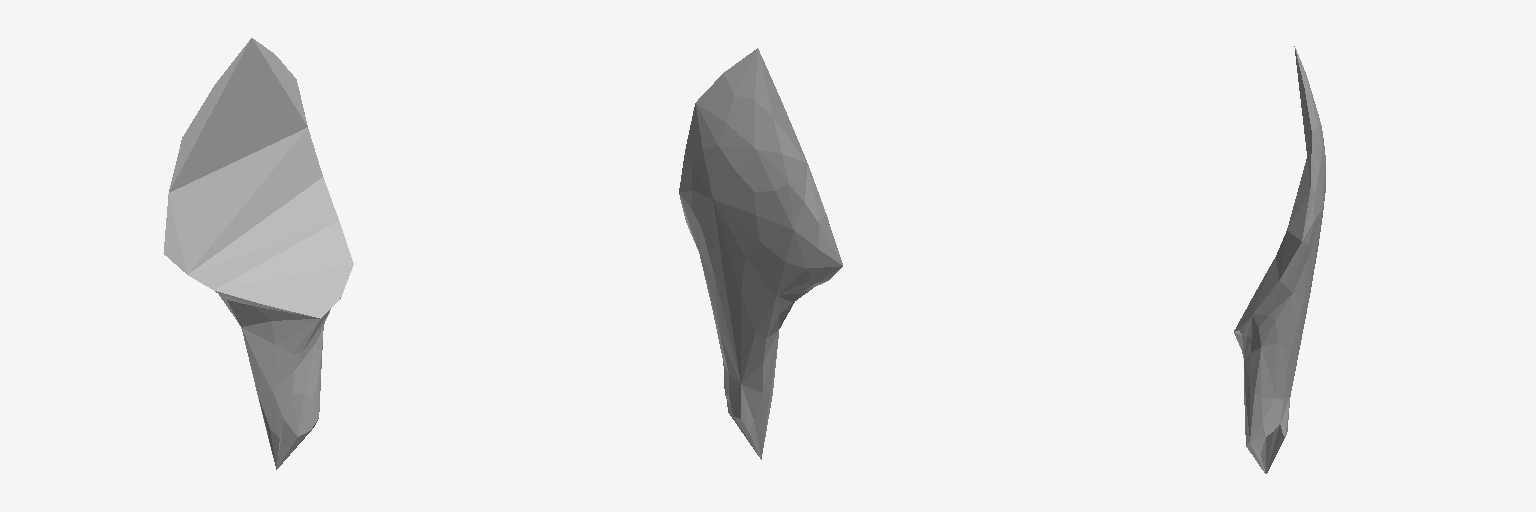
File: Patte_av_L.obj
The picture shows the model from 3 angles: view 1: azimuth 30°, elevation 25°; view 2: azimuth 150°, elevation 25°; view 3: azimuth 270°, elevation 25°; orthographic projection.
Visible parts, largest first — view 1: Patte_avant_L; view 2: Patte_avant_L; view 3: Patte_avant_L.
Boxes of the visible parts, <box> form: Patte_avant_L: <box>164,38,353,469</box>; Patte_avant_L: <box>679,48,842,459</box>; Patte_avant_L: <box>1234,46,1325,473</box>.
Bounding box in the file's own units: 1.44 × 3.49 × 0.6909.